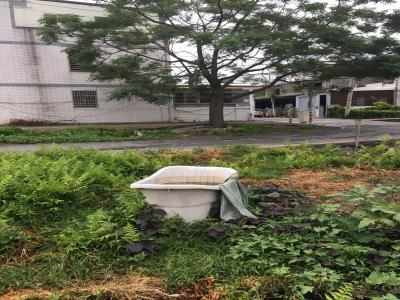tub: (129, 164, 237, 222)
